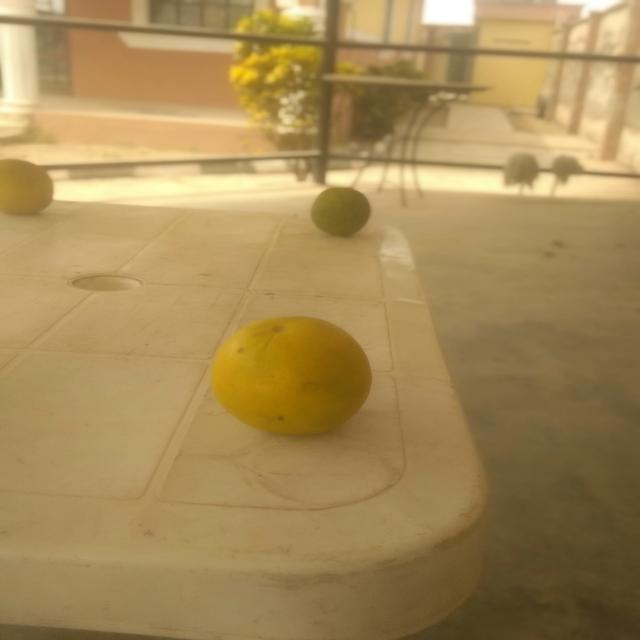Ripe orange: (180, 306, 402, 469)
Unripe: (280, 176, 439, 255)
